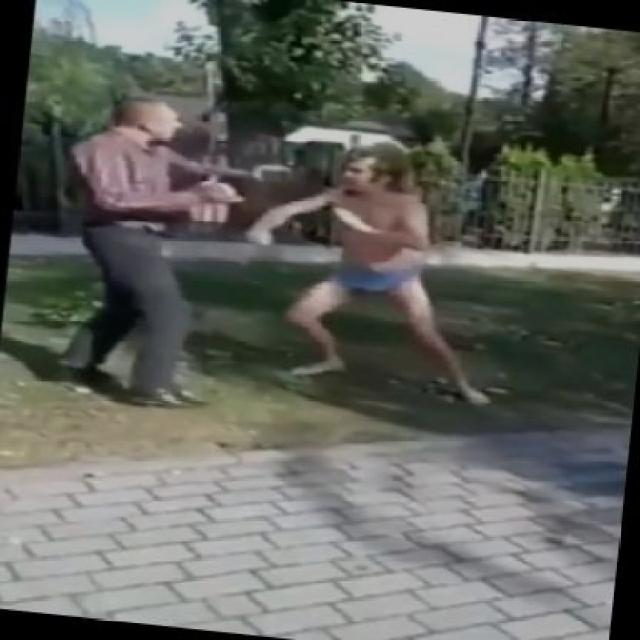fight: (49, 92, 494, 417)
